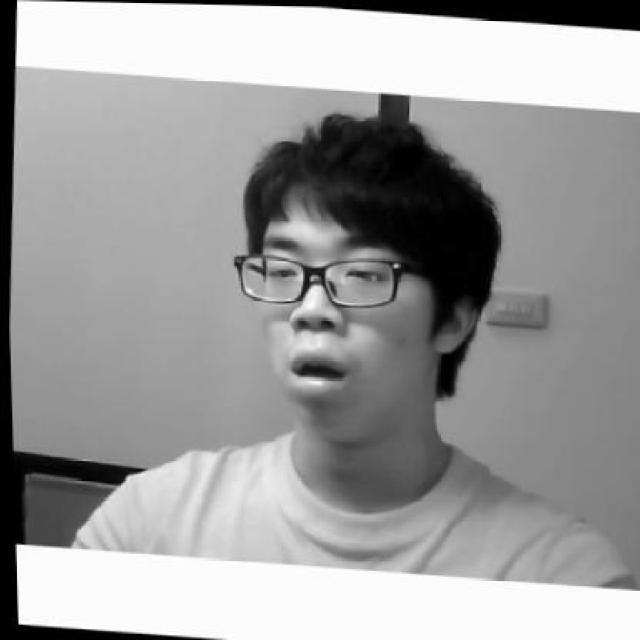inattentif: (220, 100, 486, 448)
